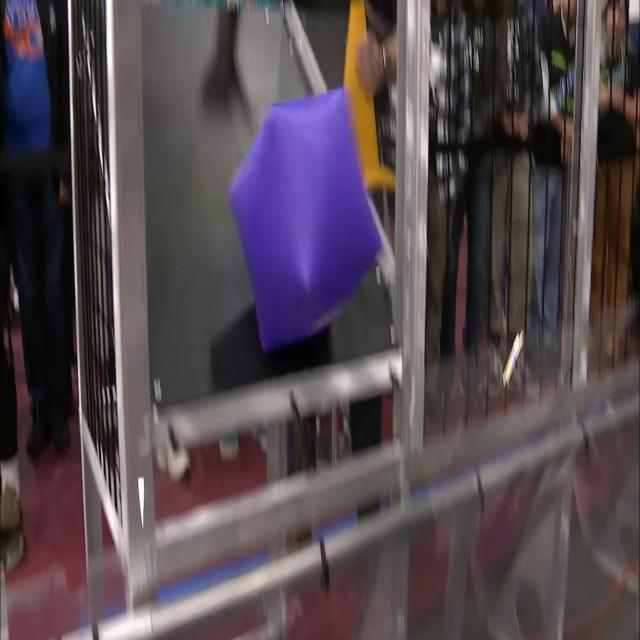frc_cone: (326, 0, 395, 187)
frc_cube: (232, 90, 381, 350)
